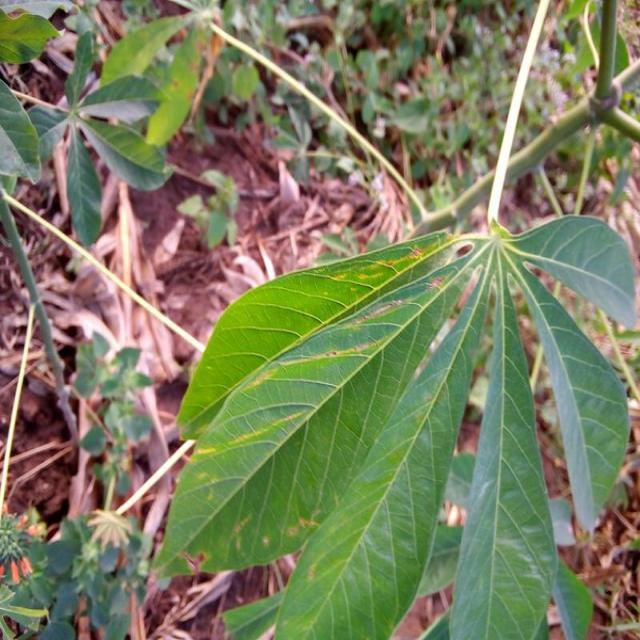cassava leaf: (153, 212, 634, 638)
